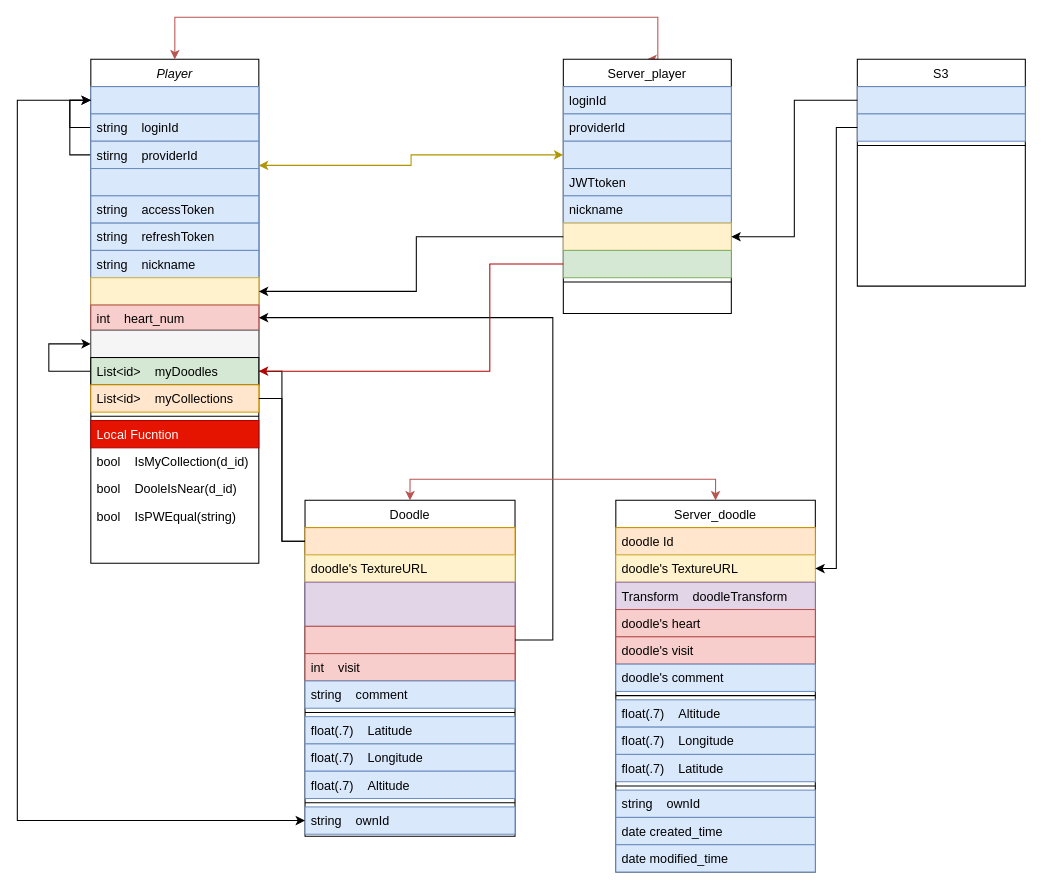
This 1043x889 diagram has some shape labels left out. The centre of each missing label's shape, as x and y in pixels:
Doodle Png Texture: [940,127]
Id's pw: [646,154]
int doodle_num: [174,343]
int heart: [409,639]
owning Doodle's Id [ ]: [646,263]
profile Png Texture: [940,100]
profile pngURL: [646,236]
string (cur)Userid: [174,100]
string DoodleId: [409,541]
string pw: [174,181]
Texture2D profile: [174,291]
Transform doodleTransform = pos,rot,scale: [409,603]
